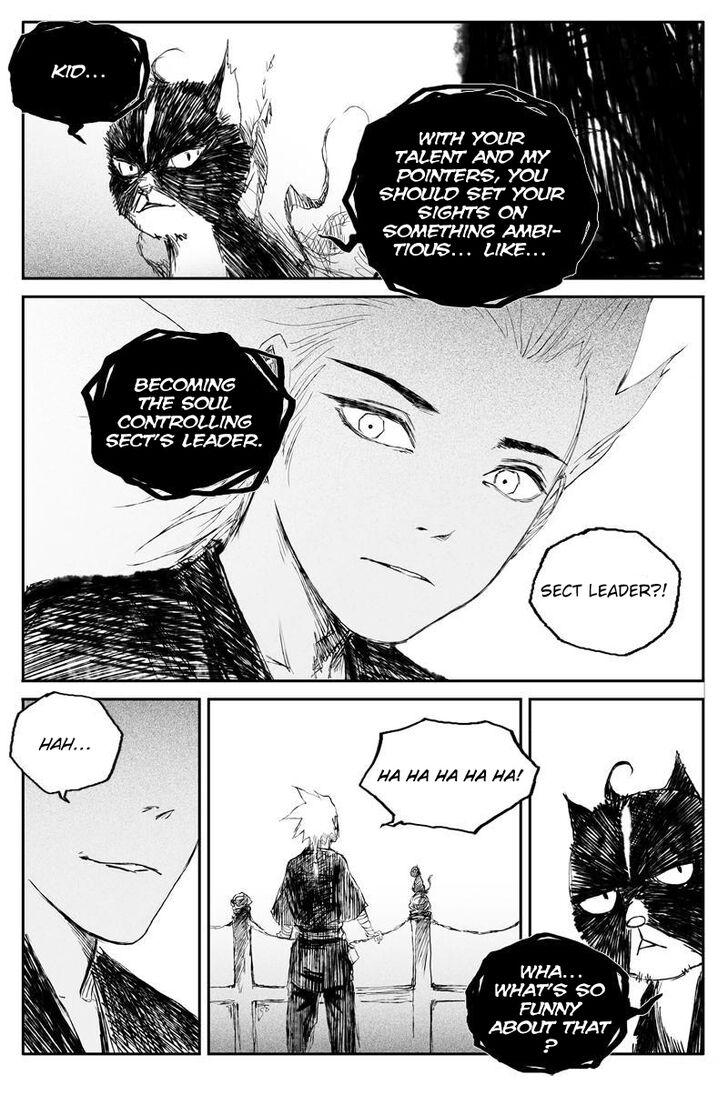Bubble: (340, 83, 602, 312), (80, 326, 297, 502), (463, 931, 632, 1078), (358, 716, 540, 835), (529, 526, 682, 657), (6, 19, 153, 126), (9, 691, 124, 797)
